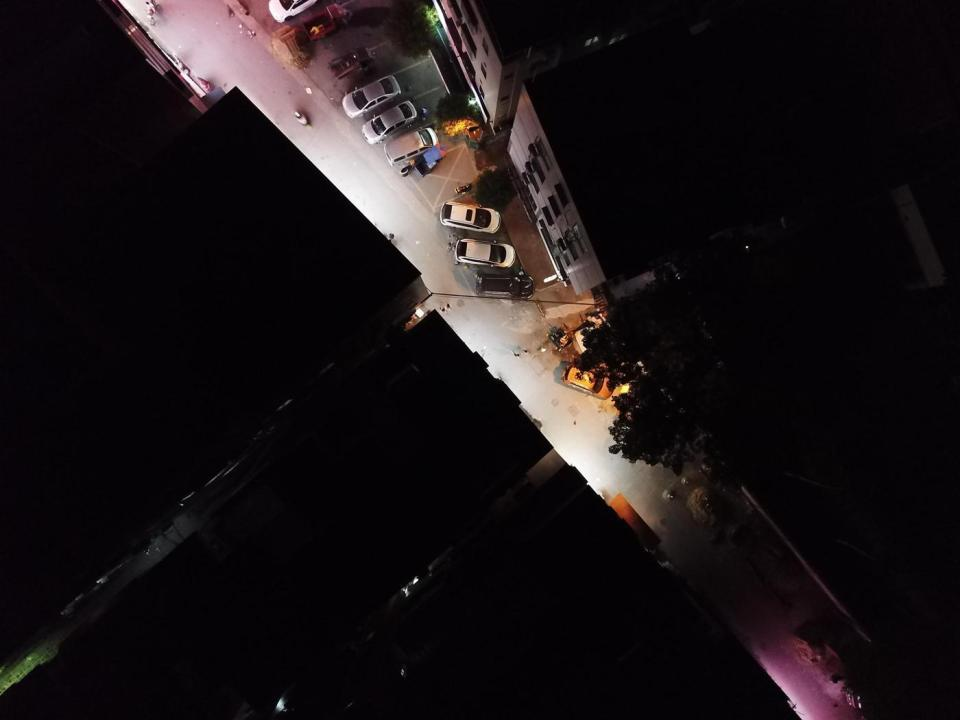car: (342, 74, 402, 117), (362, 100, 418, 145), (560, 364, 615, 400), (440, 202, 501, 233), (455, 238, 516, 267), (475, 273, 535, 300), (268, 0, 320, 23)
van: (383, 126, 439, 167)
